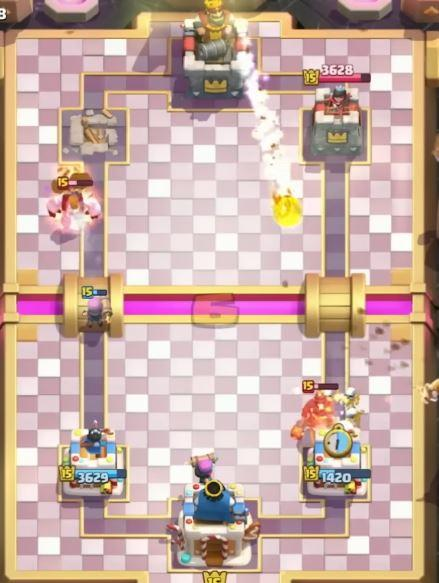EFireball: (272, 174, 302, 228)
EHogRider: (291, 380, 338, 439)
EIceGolem: (47, 181, 101, 234)
EKingTower: (183, 0, 254, 97)
EnemyPrincessTower: (304, 85, 366, 162)
OFirecrack: (80, 285, 112, 331), (190, 449, 217, 483)
OLarry: (345, 404, 364, 427), (343, 387, 359, 407)
OwnPrincessTower: (169, 479, 259, 567), (303, 422, 370, 495), (58, 428, 126, 498)
TowerDown: (62, 110, 126, 161)
